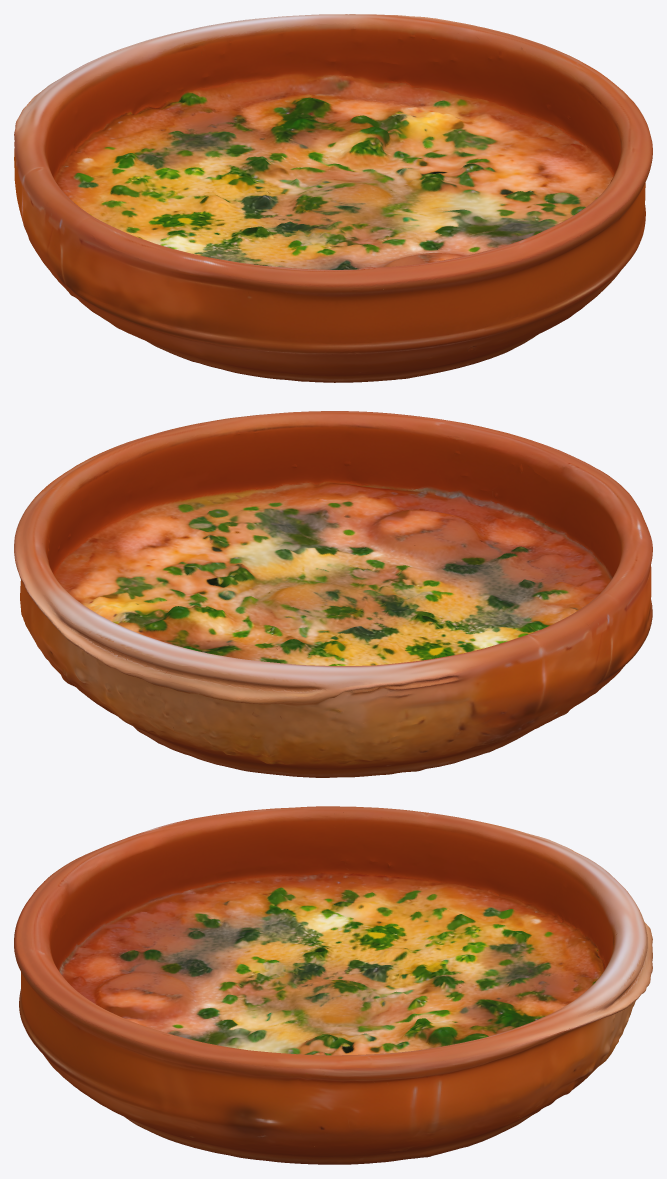
The model's file is tajine plat_shaded.glb.
3 views of the same model, one above another, from view 1: azimuth 30°, elevation 25°; view 2: azimuth 150°, elevation 25°; view 3: azimuth 270°, elevation 25° (orthographic).
Parts seen in each view (by area): view 1: model; view 2: model; view 3: model.
Part boxes in pixels (x1,y1,x2,y2): model: (14, 14, 652, 382); model: (14, 411, 652, 777); model: (14, 806, 652, 1164).
Size of the model in its own units: 1.87 by 0.4626 by 1.9.
Materials: 1 (1 with a texture image).
